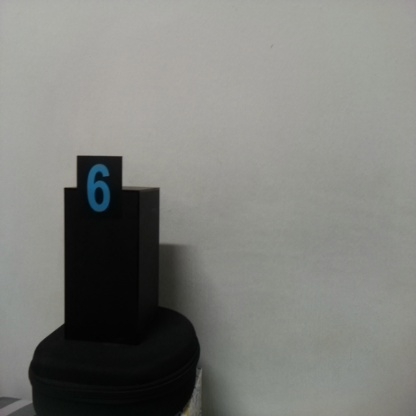id_6: (77, 156, 123, 230)
